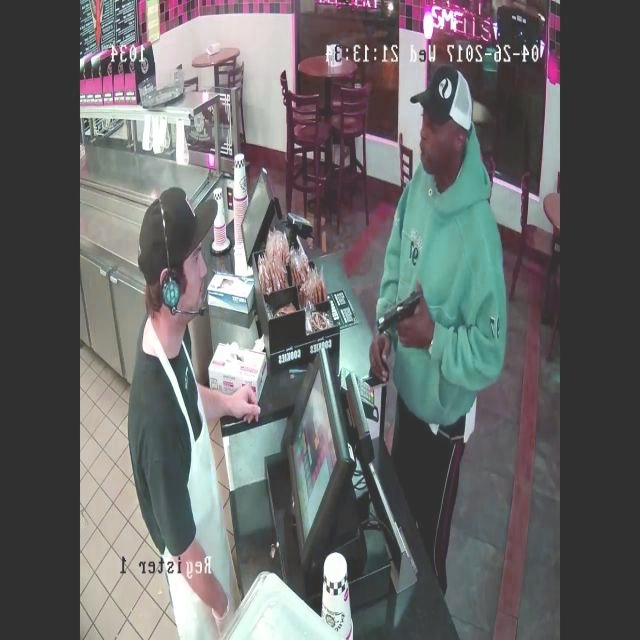gun: (369, 276, 433, 342)
